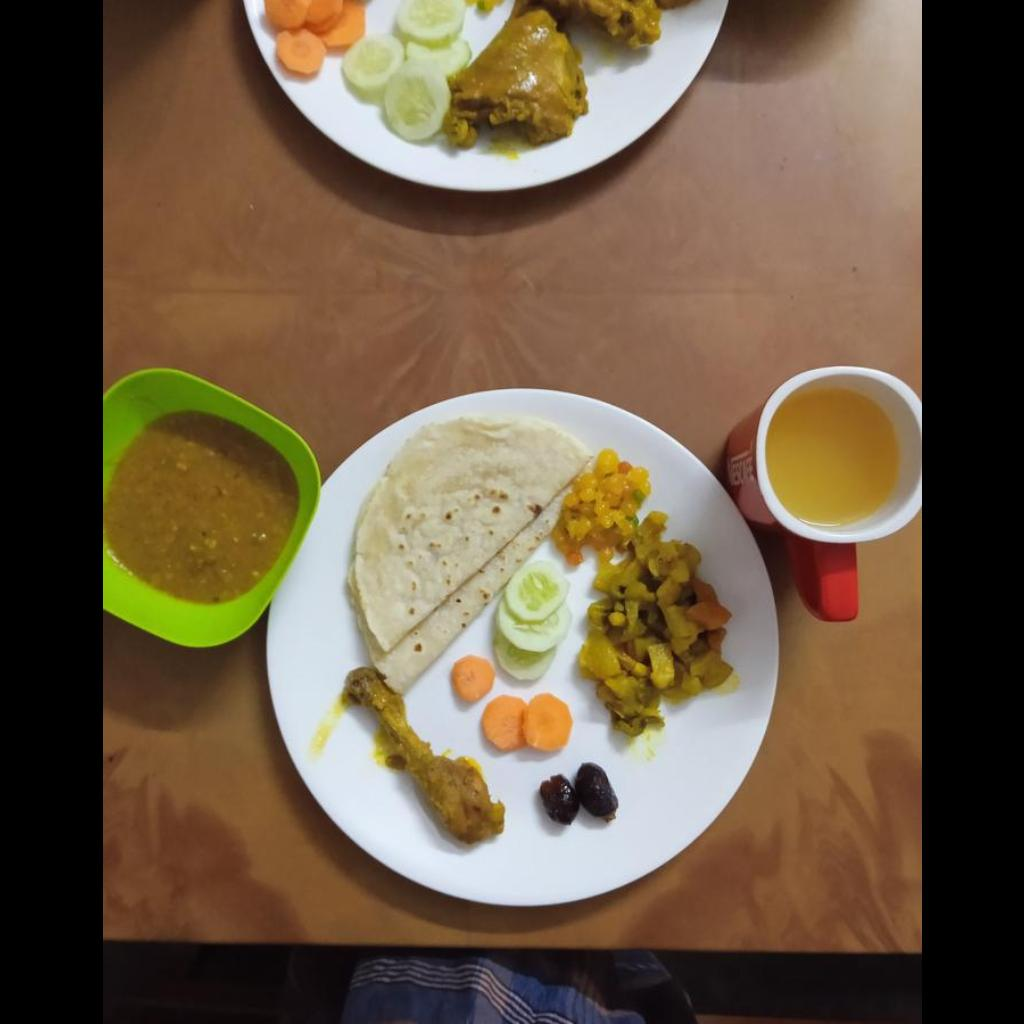burinda: (551, 449, 648, 563)
carrot: (450, 655, 493, 702)
chicken: (343, 663, 506, 845)
cucumber: (493, 553, 570, 678)
daal: (102, 413, 298, 603), (480, 693, 571, 752)
dates: (539, 763, 614, 824)
juice: (765, 388, 900, 525)
ruti: (345, 419, 570, 683)
vegetable: (578, 513, 731, 734)
